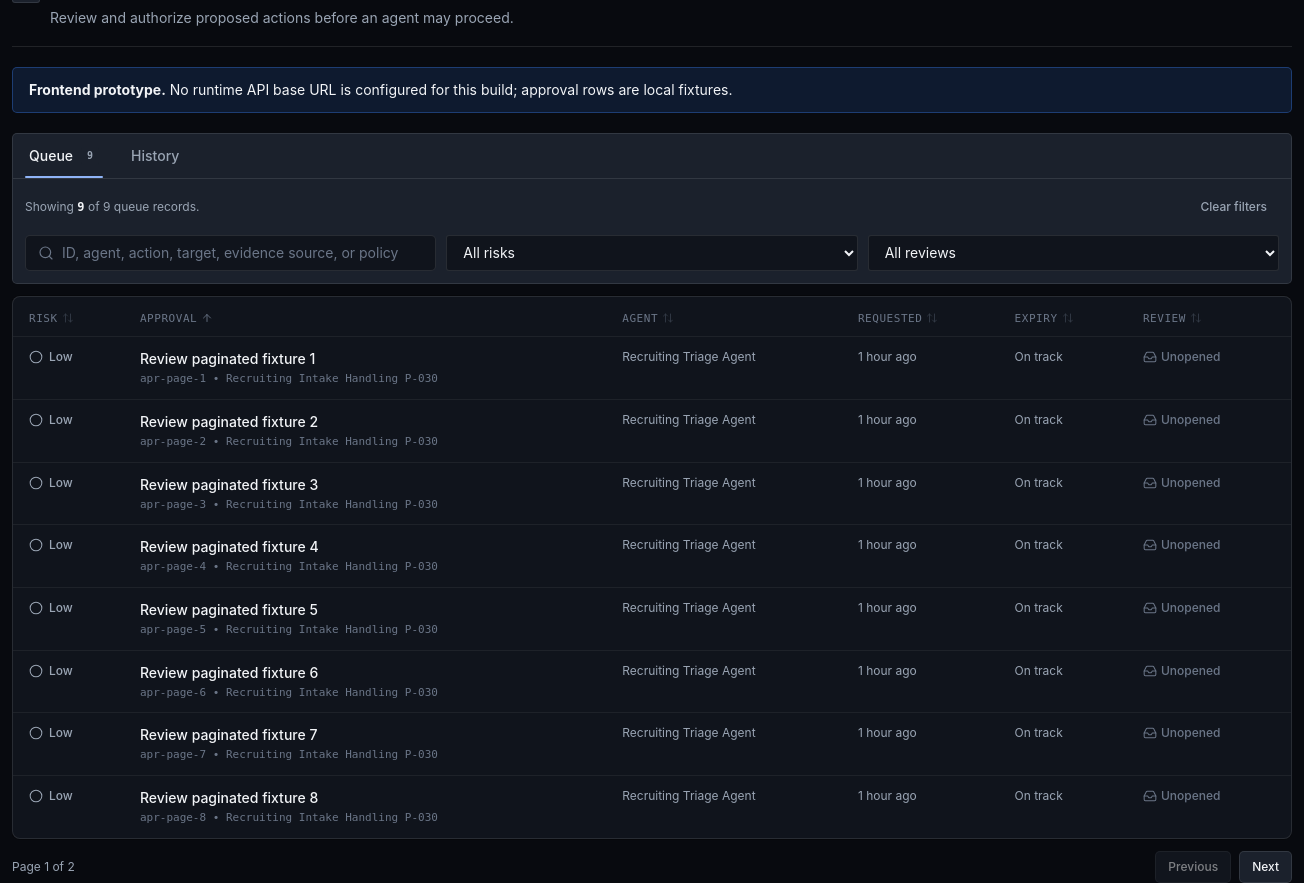
Test: ApprovalsWorkspace › paginates a finite local fixture collection
The width and height of the screenshot is (1304, 883).
(page scrolled)
Expected: the text "Page 1 of 2" is shown, [12, 859, 75, 875]
Expected: the text "Review paginated fixture 9" is not shown
Click the button "Next" at [1266, 867], box [1239, 851, 1292, 882]
(page scrolled)
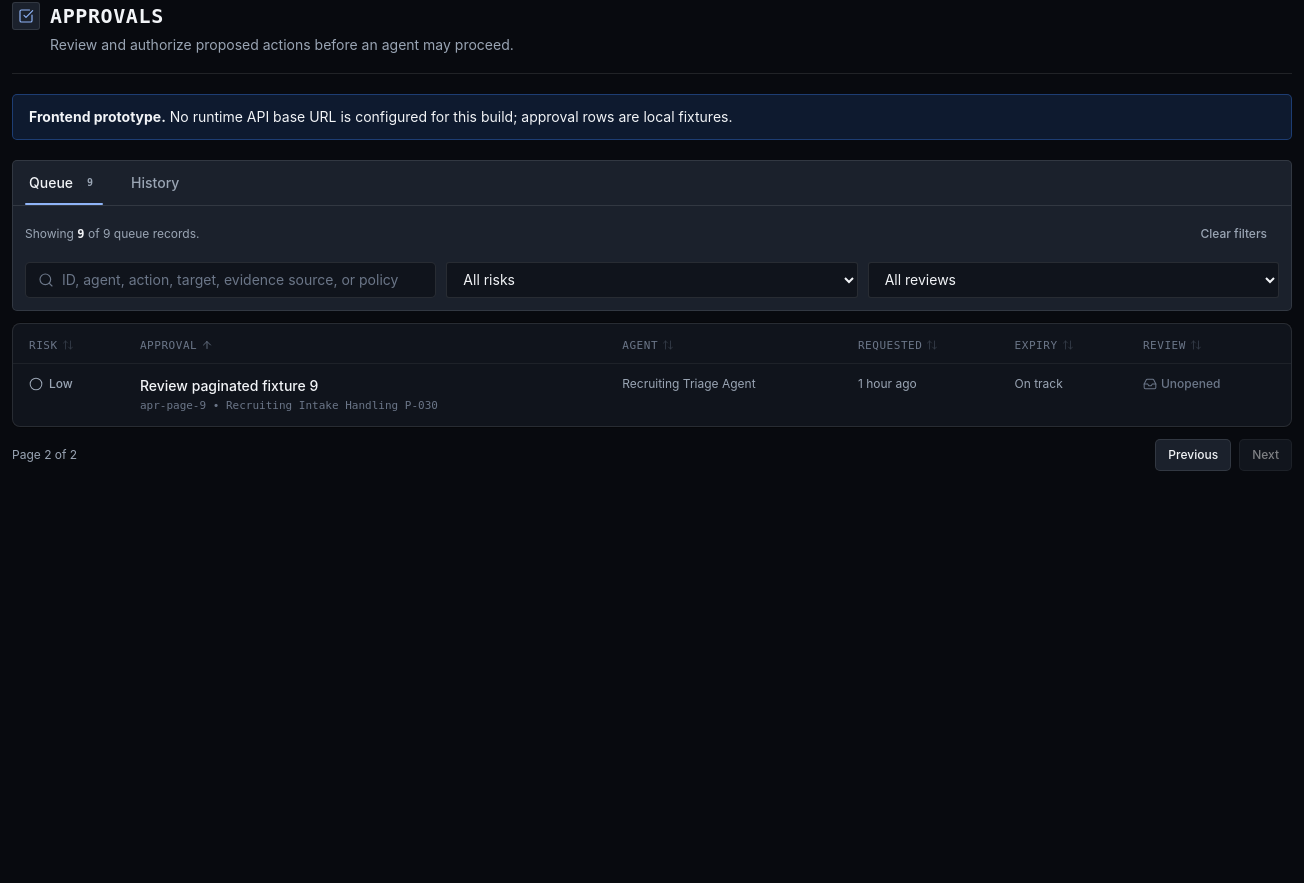
Expected: the text "Page 2 of 2" is shown, [12, 447, 77, 463]
